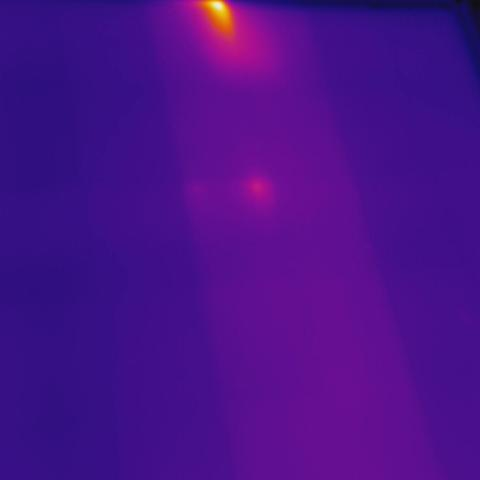fault: (195, 1, 246, 35)
